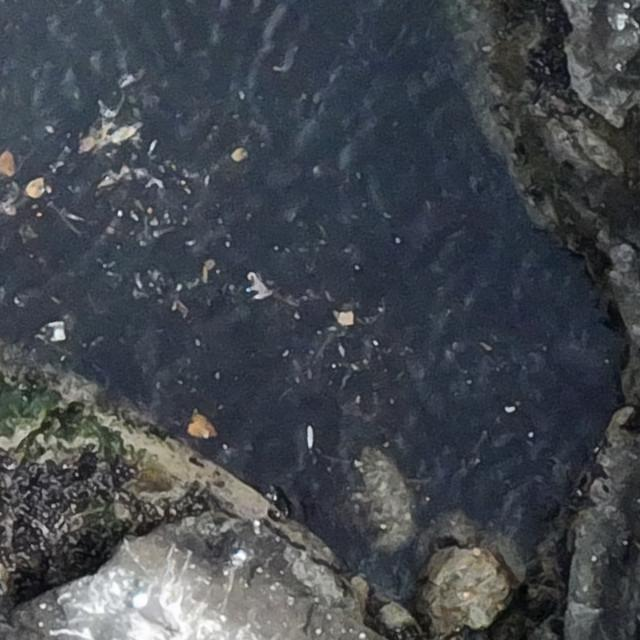umineko: (133, 592, 178, 631)
